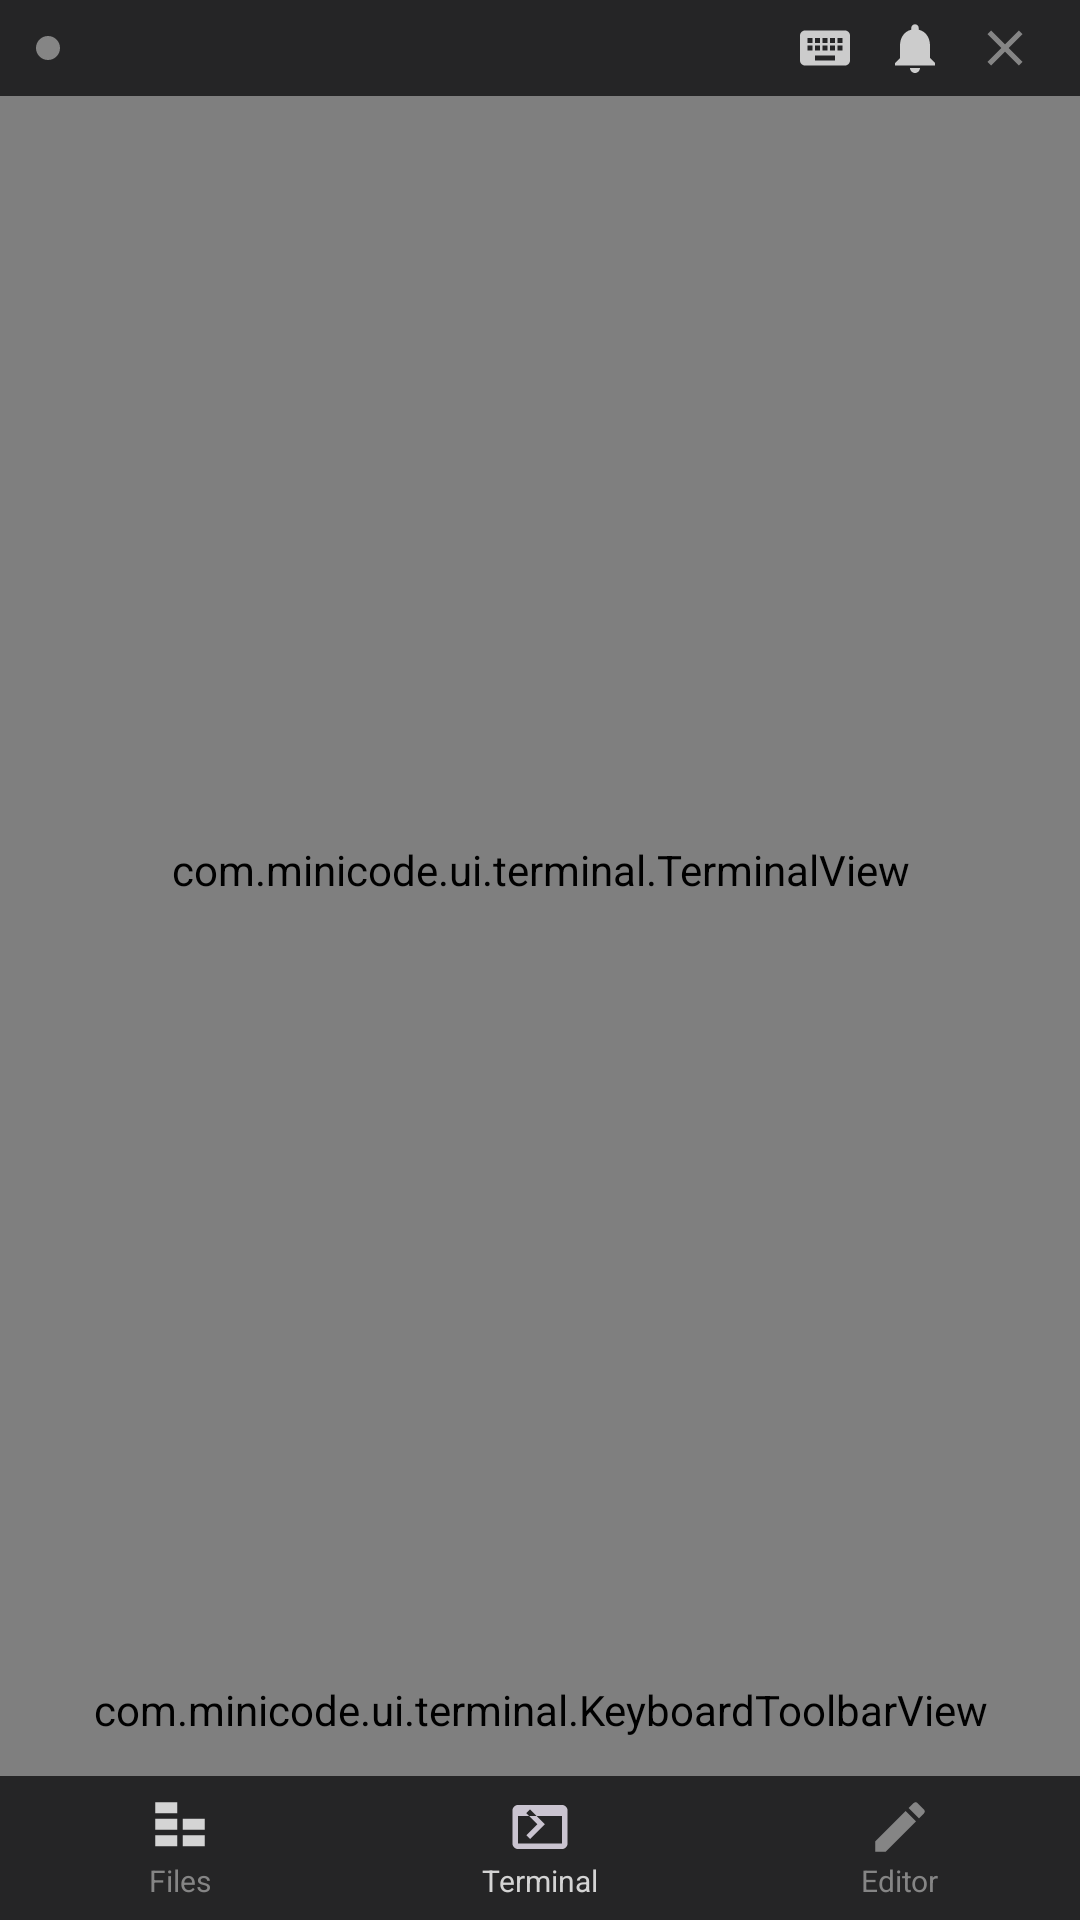

Where to tap for icons on this 1080px x 1920px app screen, as (x=x, y=y):
Disconnect: (x=1005, y=48)
Toggle bell notifications: (x=915, y=48)
Toggle keyboard: (x=825, y=48)
